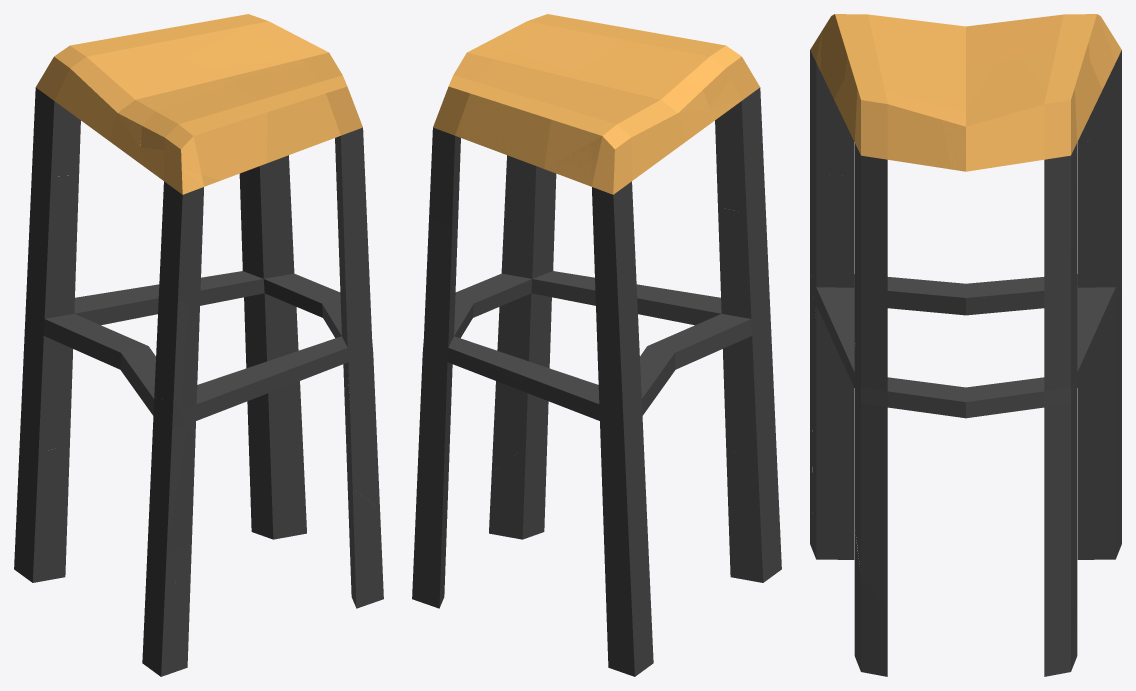
Rendered from barstool.fbx.
The picture shows the model from 3 angles, left to right: view 1: azimuth 30°, elevation 25°; view 2: azimuth 150°, elevation 25°; view 3: azimuth 270°, elevation 25°; orthographic projection. The views are drawn at different scales.
Visible parts, largest first — view 1: Cube, Cube_cell.005, Cube_cell.001, Cube_cell.010, Cube_cell.011, Cube_cell.004, Cube_cell, Cube_cell.012, Cube_cell.014, Cube_cell.003, Cube_cell.016, Cube_cell.008 (+3 smaller); view 2: Cube, Cube_cell.005, Cube_cell.001, Cube_cell.013, Cube_cell.010, Cube_cell.008, Cube_cell.014, Cube_cell.004, Cube_cell.016, Cube_cell.003, Cube_cell, Cube_cell.006 (+3 smaller); view 3: Cube, Cube_cell.005, Cube_cell.001, Cube_cell.014, Cube_cell.011, Cube_cell.013, Cube_cell.008, Cube_cell.004, Cube_cell.010, Cube_cell, Cube_cell.016, Cube_cell.007 (+4 smaller).
Part boxes in pixels (bbox=[...]): Cube: bbox=[14, 14, 383, 676]; Cube_cell.005: bbox=[242, 155, 379, 519]; Cube_cell.001: bbox=[51, 35, 230, 175]; Cube_cell.010: bbox=[234, 60, 370, 318]; Cube_cell.011: bbox=[38, 175, 131, 451]; Cube_cell.004: bbox=[14, 442, 69, 582]; Cube_cell: bbox=[141, 148, 205, 301]; Cube_cell.012: bbox=[193, 112, 267, 180]; Cube_cell.014: bbox=[179, 26, 306, 78]; Cube_cell.003: bbox=[143, 397, 195, 552]; Cube_cell.016: bbox=[348, 490, 379, 608]; Cube_cell.008: bbox=[125, 298, 352, 434]; Cube: bbox=[412, 14, 781, 636]; Cube_cell.005: bbox=[422, 218, 556, 469]; Cube_cell.001: bbox=[544, 68, 710, 255]; Cube_cell.013: bbox=[548, 250, 635, 547]; Cube_cell.010: bbox=[487, 21, 619, 242]; Cube_cell.008: bbox=[548, 207, 769, 364]; Cube_cell.014: bbox=[429, 51, 571, 225]; Cube_cell.004: bbox=[604, 534, 653, 676]; Cube_cell.016: bbox=[489, 413, 548, 539]; Cube_cell.003: bbox=[723, 316, 776, 457]; Cube_cell: bbox=[710, 79, 751, 212]; Cube_cell.006: bbox=[726, 450, 763, 579]; Cube: bbox=[810, 14, 1121, 671]; Cube_cell.005: bbox=[854, 244, 1095, 660]; Cube_cell.001: bbox=[921, 14, 1121, 143]; Cube_cell.014: bbox=[942, 58, 1087, 258]; Cube_cell.011: bbox=[954, 136, 1101, 422]; Cube_cell.013: bbox=[1102, 111, 1121, 423]; Cube_cell.008: bbox=[810, 161, 953, 389]; Cube_cell.004: bbox=[1077, 414, 1121, 559]; Cube_cell.010: bbox=[854, 58, 953, 351]; Cube_cell: bbox=[810, 32, 854, 175]; Cube_cell.016: bbox=[854, 528, 887, 676]; Cube_cell.007: bbox=[812, 424, 834, 559].
Bounding box in the file's own units: 48.75 × 91.97 × 46.98.
